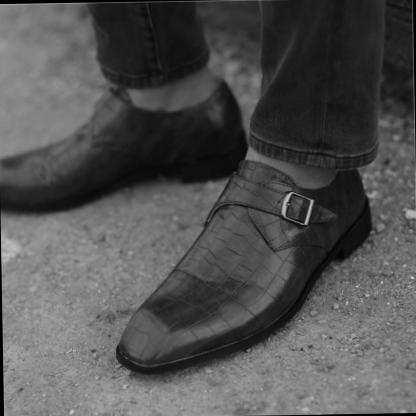ankle: (320, 190, 325, 196), (171, 113, 176, 117)
heel: (236, 131, 242, 135), (361, 196, 365, 202)
left_foot: (112, 162, 376, 376)
pinky: (178, 344, 186, 350), (8, 160, 12, 165)
right_foot: (1, 61, 250, 212)
toe: (126, 330, 134, 336), (6, 195, 10, 199)
